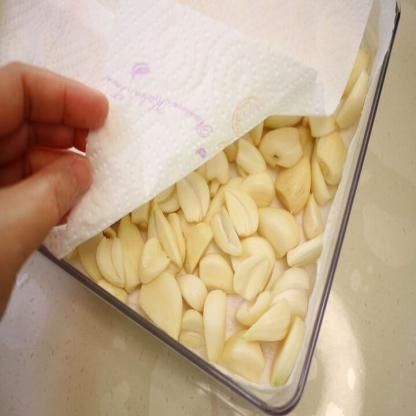garlic: (138, 269, 190, 356), (266, 317, 307, 392), (226, 178, 258, 245), (261, 205, 302, 256), (236, 242, 276, 294), (200, 282, 228, 355), (210, 200, 242, 260), (270, 267, 308, 317), (225, 326, 261, 378), (92, 230, 124, 287), (313, 134, 344, 188), (203, 252, 241, 296), (174, 176, 212, 218), (341, 76, 372, 127), (278, 170, 316, 210), (150, 208, 176, 265), (252, 306, 288, 344), (260, 134, 300, 168), (141, 240, 166, 288), (182, 269, 208, 306), (239, 144, 265, 176)
